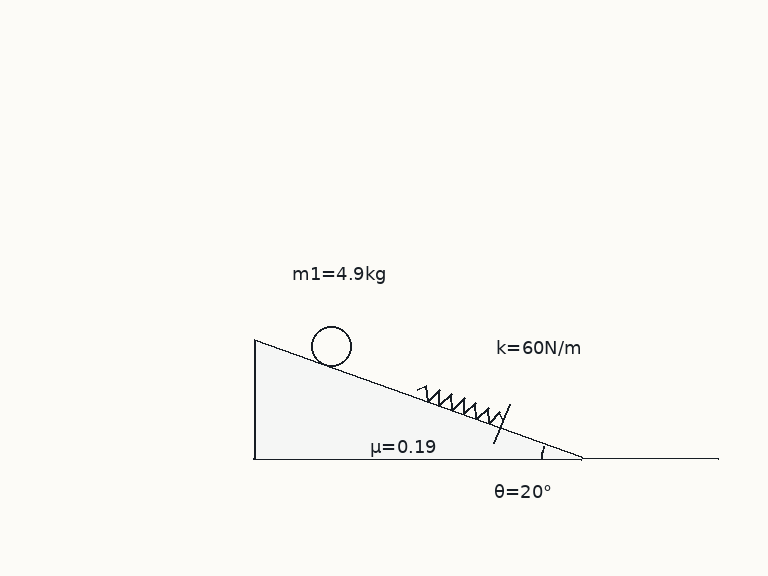ball: (309, 324, 353, 368)
ramp: (252, 338, 584, 461)
spring: (416, 383, 505, 425)
